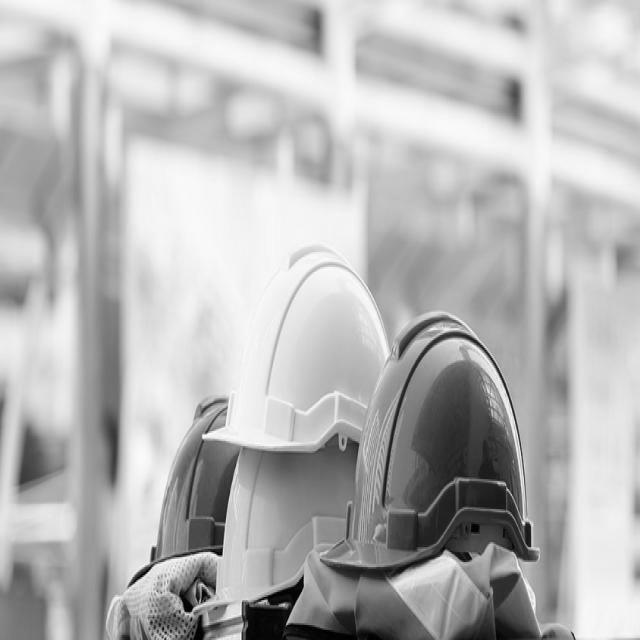construction helmet: (330, 312, 535, 569), (215, 244, 389, 451)
